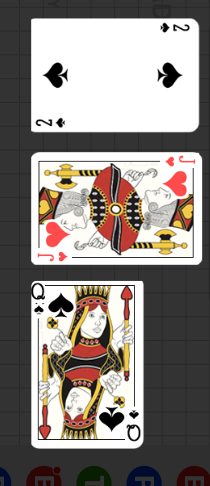2S: (158, 21, 192, 34)
9S: (126, 406, 143, 443)
JH: (37, 249, 70, 262)
